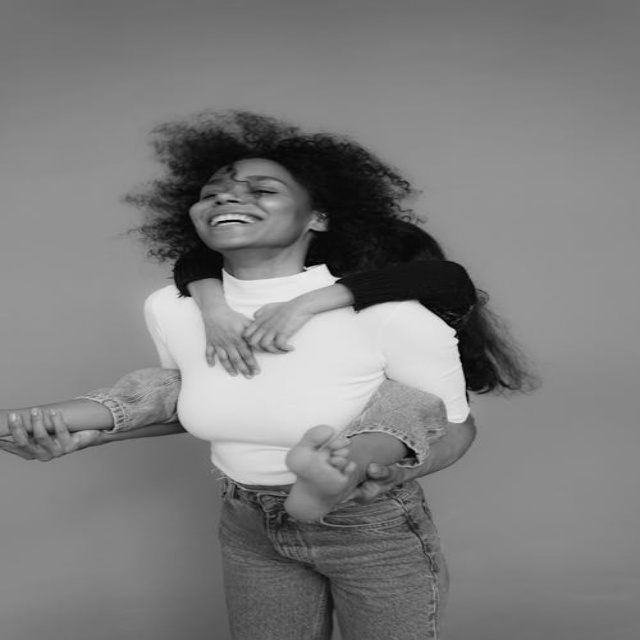Sin_gafas: (195, 175, 283, 203)
Sin_guantes: (3, 404, 100, 461), (195, 311, 265, 376), (247, 301, 314, 351)
Sin_mascara: (208, 211, 263, 229)
